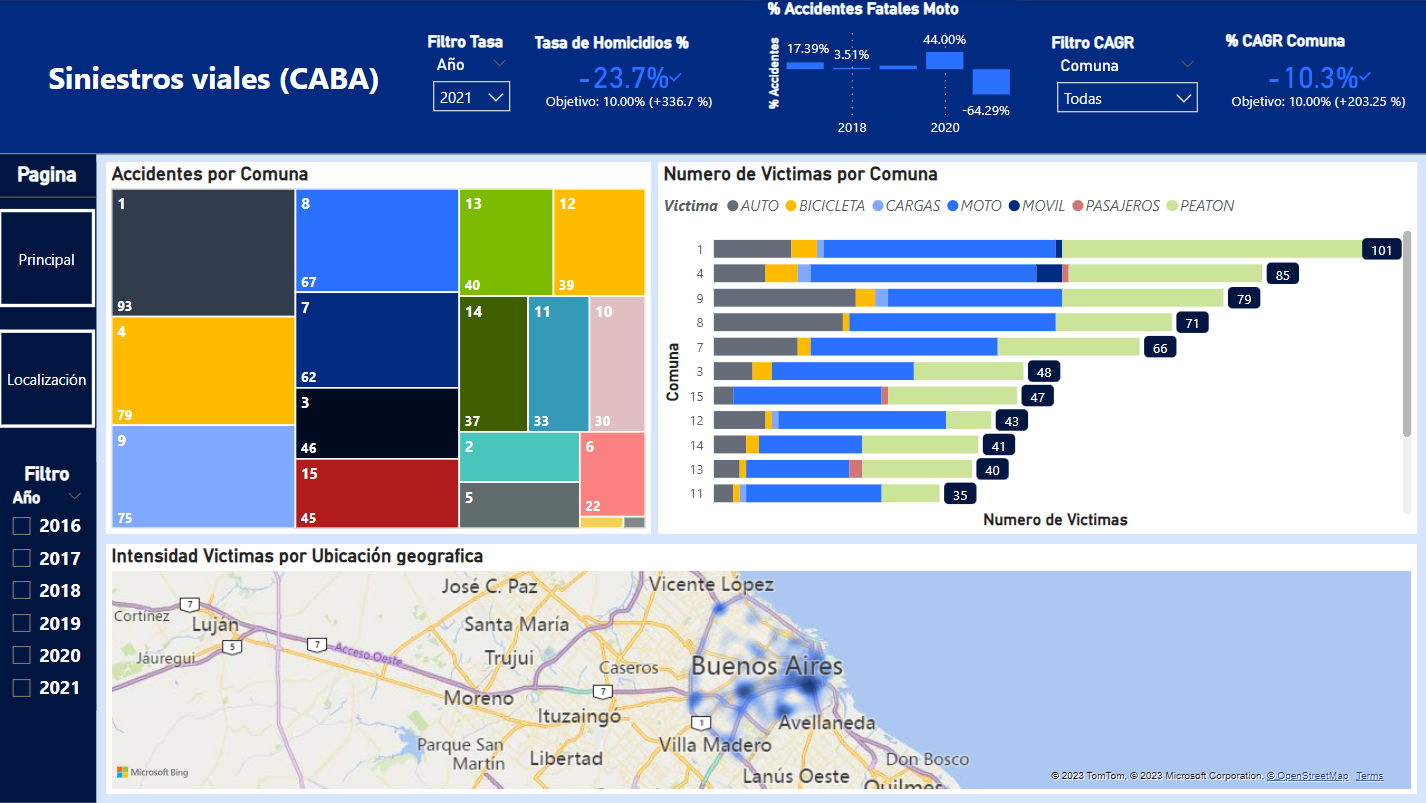

The page's visual inventory and layout, read from the dashboard file:
{"tool":"powerbi","page":{"name":"Localización","canvas":[1280,720],"ordinal":1},"visuals":[{"type":"shape","box":[0,138.8,87.8,581.2],"z":0},{"type":"shape","box":[0,0,1279.7,138.8],"z":1000},{"type":"textbox","box":[26.9,46.6,333.1,45.7],"z":2000},{"type":"barChart","title":"Numero de Victimas por Comuna","fields":{"Category":["hechosyvictimas.Comuna"],"Y":["Sum(hechosyvictimas.Numero_Victimas)"],"Series":["hechosyvictimas.Victima"]},"box":[591,146,679.7,333.1],"z":3000},{"type":"slicer","title":"Filtro","fields":{"Values":["LocalDateTable_4db570c2-8ebb-436c-9762-037321cdac86.Año"]},"box":[0,414.6,87.8,223],"z":4000},{"type":"pageNavigator","title":"Pagina","box":[0,146,87.8,238.2],"z":5000},{"type":"slicer","title":"Filtro Tasa ","fields":{"Values":["Calendario.Año"]},"box":[379.7,29.6,88.7,79.7],"z":6000},{"type":"slicer","title":"Filtro CAGR","fields":{"Values":["hechosyvictimas.Comuna"]},"box":[938.5,30.4,146,78.8],"z":7000},{"type":"treemap","title":"Accidentes por Comuna","fields":{"Group":["hechosyvictimas.Comuna"],"Values":["CountNonNull(hechosyvictimas.ID)"]},"box":[96.7,146,488.1,333.1],"z":8000},{"type":"map","title":"Intensidad  Victimas por Ubicación geografica","fields":{"Y":["hechosyvictimas.Latitud"],"X":["hechosyvictimas.Longitud"],"Size":["Sum(hechosyvictimas.Numero_Victimas)"]},"box":[96.7,488.1,1174,223.9],"z":9000},{"type":"kpi","title":"Tasa de Homicidios %","fields":{"TrendLine":["Calendario.Año"],"Indicator":["Medidas.Victimas %"],"Goal":["Medidas.Objetivo victimas"]},"box":[475.5,30.4,179.1,78.8],"z":10000},{"type":"clusteredColumnChart","title":"% Accidentes Fatales Moto","fields":{"Category":["Calendario.Año"],"Y":["Medidas.% Accidentes Fatales Moto"]},"box":[684.2,0,226.6,132.5],"z":11000},{"type":"kpi","title":"% CAGR Comuna","fields":{"Indicator":["Medidas.% CAGR Comuna"],"Goal":["Medidas.Objetivo victimas"],"TrendLine":["Calendario.Año"]},"box":[1094.3,28.7,176.4,81.5],"z":12000}]}

Visuals, with their boxes in screenshot pixels (x1, y1, x2, y2), scaled from the page's 1280x720 canvas onto the 1426x803 screenshot:
shape: {"x1": 0, "y1": 155, "x2": 98, "y2": 802}
shape: {"x1": 0, "y1": 0, "x2": 1425, "y2": 155}
textbox: {"x1": 30, "y1": 52, "x2": 401, "y2": 103}
"Numero de Victimas por Comuna" barChart: {"x1": 658, "y1": 163, "x2": 1416, "y2": 534}
"Filtro" slicer: {"x1": 0, "y1": 462, "x2": 98, "y2": 711}
"Pagina" pageNavigator: {"x1": 0, "y1": 163, "x2": 98, "y2": 428}
"Filtro Tasa " slicer: {"x1": 423, "y1": 33, "x2": 522, "y2": 122}
"Filtro CAGR" slicer: {"x1": 1046, "y1": 34, "x2": 1208, "y2": 122}
"Accidentes por Comuna" treemap: {"x1": 108, "y1": 163, "x2": 652, "y2": 534}
"Intensidad  Victimas por Ubicación geografica" map: {"x1": 108, "y1": 544, "x2": 1416, "y2": 794}
"Tasa de Homicidios %" kpi: {"x1": 530, "y1": 34, "x2": 729, "y2": 122}
"% Accidentes Fatales Moto" clusteredColumnChart: {"x1": 762, "y1": 0, "x2": 1015, "y2": 148}
"% CAGR Comuna" kpi: {"x1": 1219, "y1": 32, "x2": 1416, "y2": 123}
